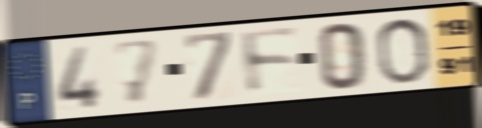0: (317, 20, 367, 92)
4: (54, 44, 103, 111)
7: (183, 29, 236, 103), (111, 36, 162, 109)
F: (237, 26, 303, 99)
O: (374, 15, 432, 87)
